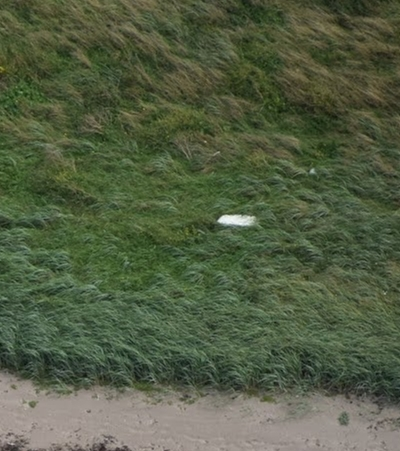cuboid: (212, 201, 260, 235)
